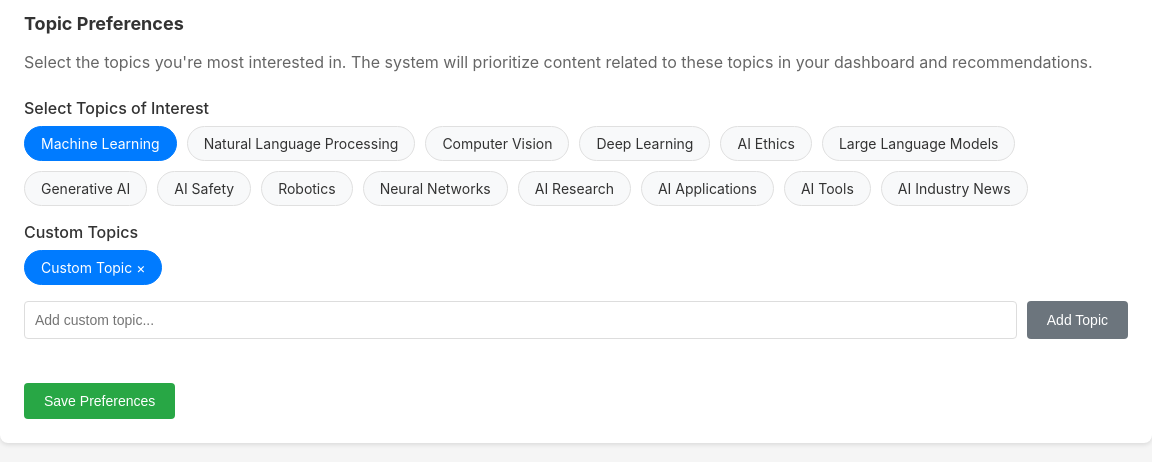
it: TopicPreferences Component › allows removing custom topics
The width and height of the screenshot is (1152, 462).
Click the text "Custom Topic ×": {"x": 93, "y": 268} x1=24 y1=250 x2=162 y2=285
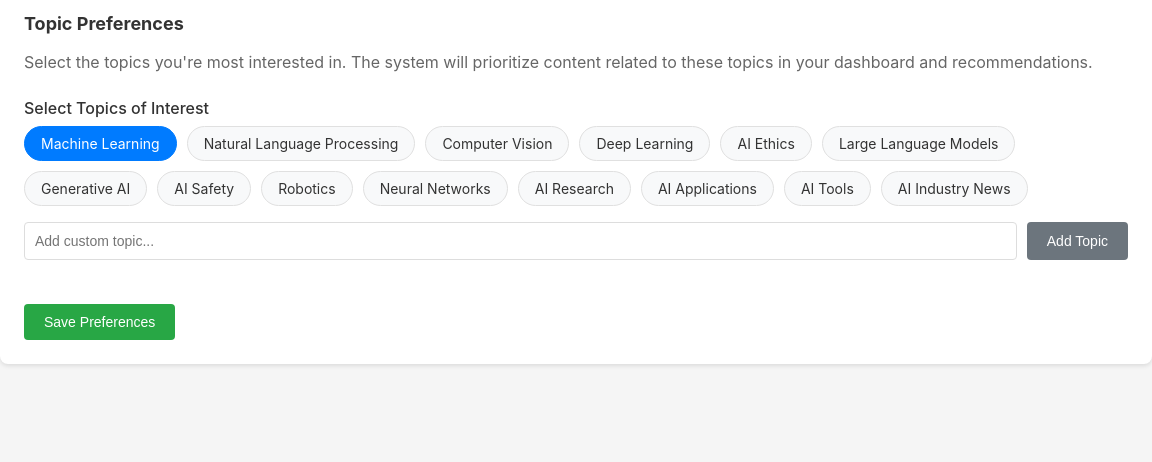
Result: the text "Custom Topic ×" is gone
